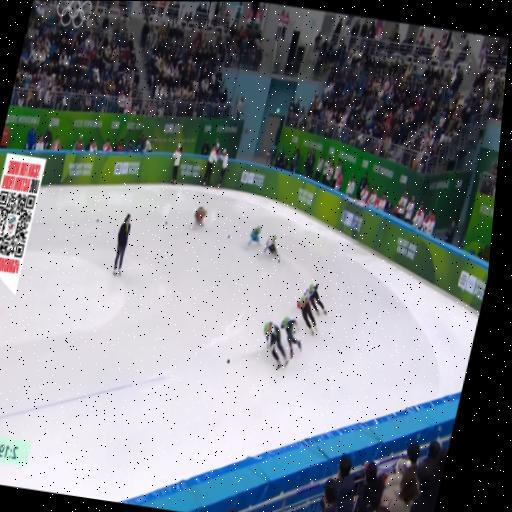Skater: (263, 321, 288, 368), (280, 317, 301, 358), (296, 295, 316, 335), (304, 284, 326, 314), (188, 202, 211, 230), (247, 226, 260, 246), (264, 236, 277, 256)
